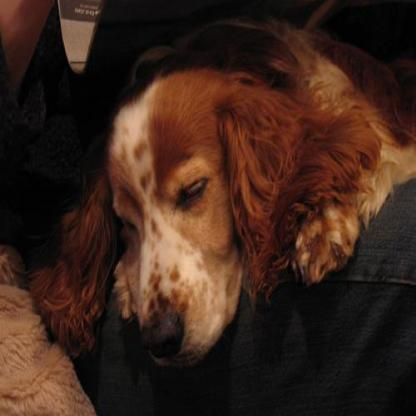Welsh_springer_spaniel: (22, 7, 414, 377)
